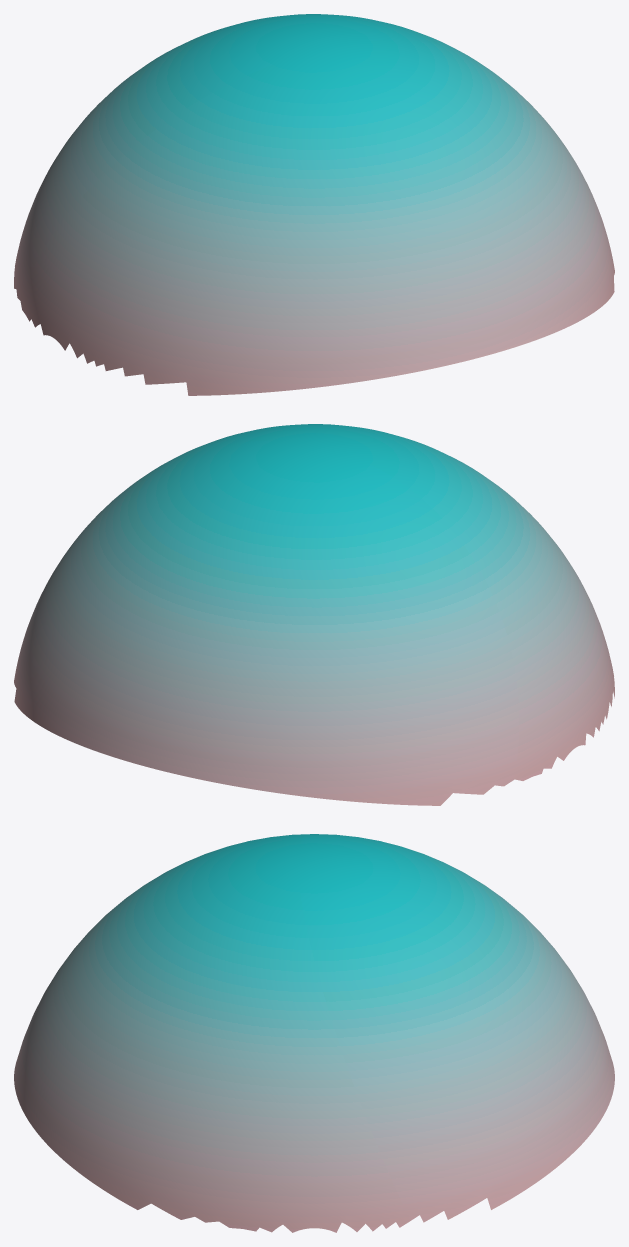
The model's file is Environment-sky.obj.
3 renders of one model, top to bottom at view 1: azimuth 30°, elevation 25°; view 2: azimuth 150°, elevation 25°; view 3: azimuth 270°, elevation 25°, orthographic.
Parts seen in each view (by area): view 1: pSphere1; view 2: pSphere1; view 3: pSphere1.
Boxes of the visible parts, x1=… form: pSphere1: x1=14, y1=14, x2=614, y2=395; pSphere1: x1=14, y1=424, x2=614, y2=805; pSphere1: x1=14, y1=834, x2=614, y2=1232.
Bounding box in the file's own units: 91.31 × 39.88 × 89.9.
Materials: 1 (1 with a texture image).
